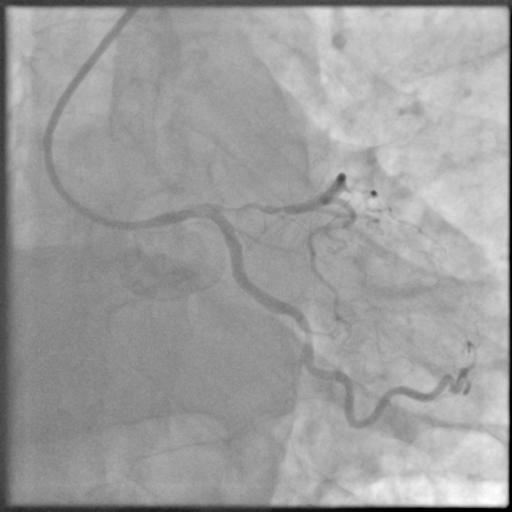Stenosis: (217, 195, 286, 216)
